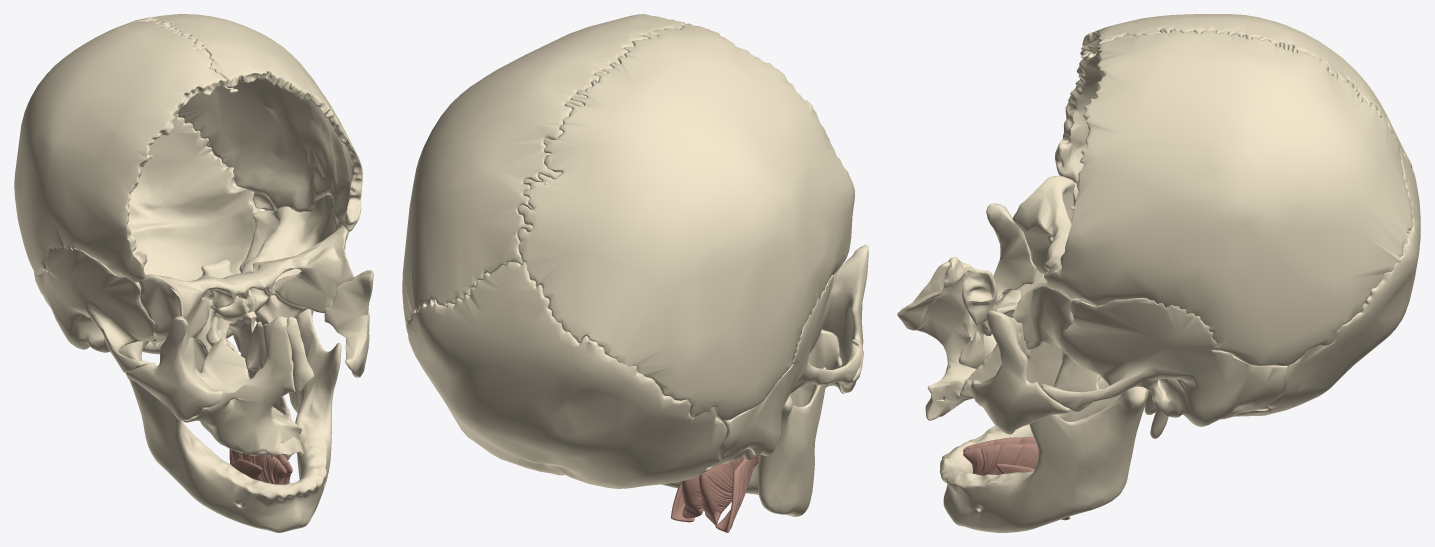
The model's file is head-4.glb.
3 renders of one model, left to right at view 1: azimuth 30°, elevation 25°; view 2: azimuth 150°, elevation 25°; view 3: azimuth 270°, elevation 25°, orthographic. The views are drawn at different scales.
Parts seen in each view (by area): view 1: FJ3380, FJ3274, FJ3289, FJ3309, FJ3394, FJ3375, FJ3386, FJ3392, FJ3281, FJ3287, FJ3378, FJ3395 (+3 smaller); view 2: FJ3380, FJ3309, FJ3274, FJ3386, FJ3289, FJ3392, FJ2750, FJ3375, FJ2751, FJ2738; view 3: FJ3274, FJ3281, FJ3289, FJ3380, FJ3309, FJ3394, FJ3287, FJ3375, FJ3392, FJ3395, FJ2738, FJ3371 (+2 smaller).
Part boxes in pixels (x1,y1,x2,y2): FJ3380: (14,18,238,282); FJ3274: (139,14,362,231); FJ3289: (119,308,341,532); FJ3309: (127,114,261,354); FJ3394: (138,227,353,372); FJ3375: (183,316,304,459); FJ3386: (34,245,155,379); FJ3392: (126,316,223,420); FJ3281: (239,195,368,311); FJ3287: (324,270,373,377); FJ3378: (286,317,313,392); FJ3395: (228,311,290,416); FJ3380: (517,23,854,420); FJ3309: (407,262,726,488); FJ3274: (402,14,685,332); FJ3386: (709,269,862,467); FJ3289: (661,367,825,516); FJ3392: (822,244,868,392); FJ2750: (699,454,759,525); FJ3375: (790,329,844,406); FJ2751: (715,455,756,532); FJ2738: (681,475,703,518); FJ3274: (1045,29,1412,365); FJ3281: (1041,298,1287,438); FJ3289: (940,376,1149,532); FJ3380: (1055,14,1412,183); FJ3309: (1232,148,1420,416); FJ3394: (1012,175,1100,412); FJ3287: (971,310,1070,434); FJ3375: (917,256,1020,420); FJ3392: (986,203,1046,302); FJ3395: (960,342,1062,398); FJ2738: (963,443,1038,475); FJ3371: (962,267,997,325).
Bounding box in the file's own units: 0.151 × 0.2146 × 0.2088.
